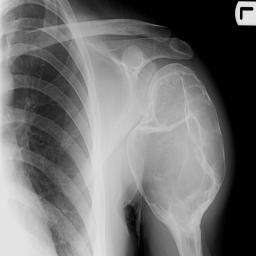cancer: (125, 64, 225, 256)
